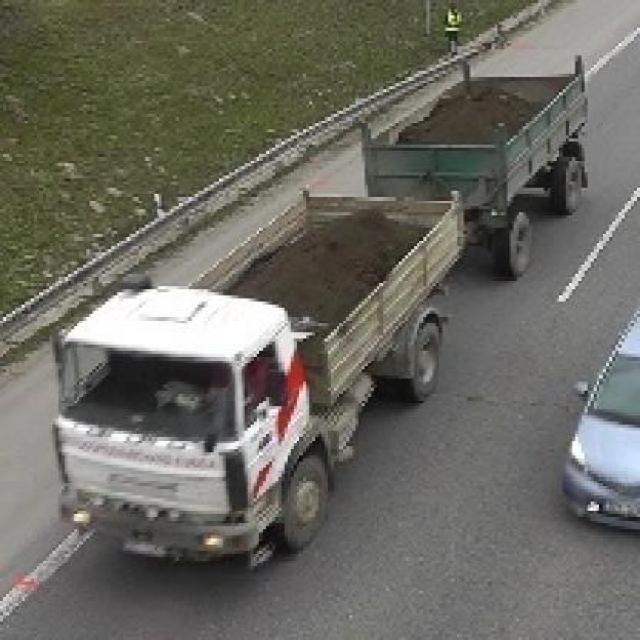truck: (56, 32, 592, 576)
